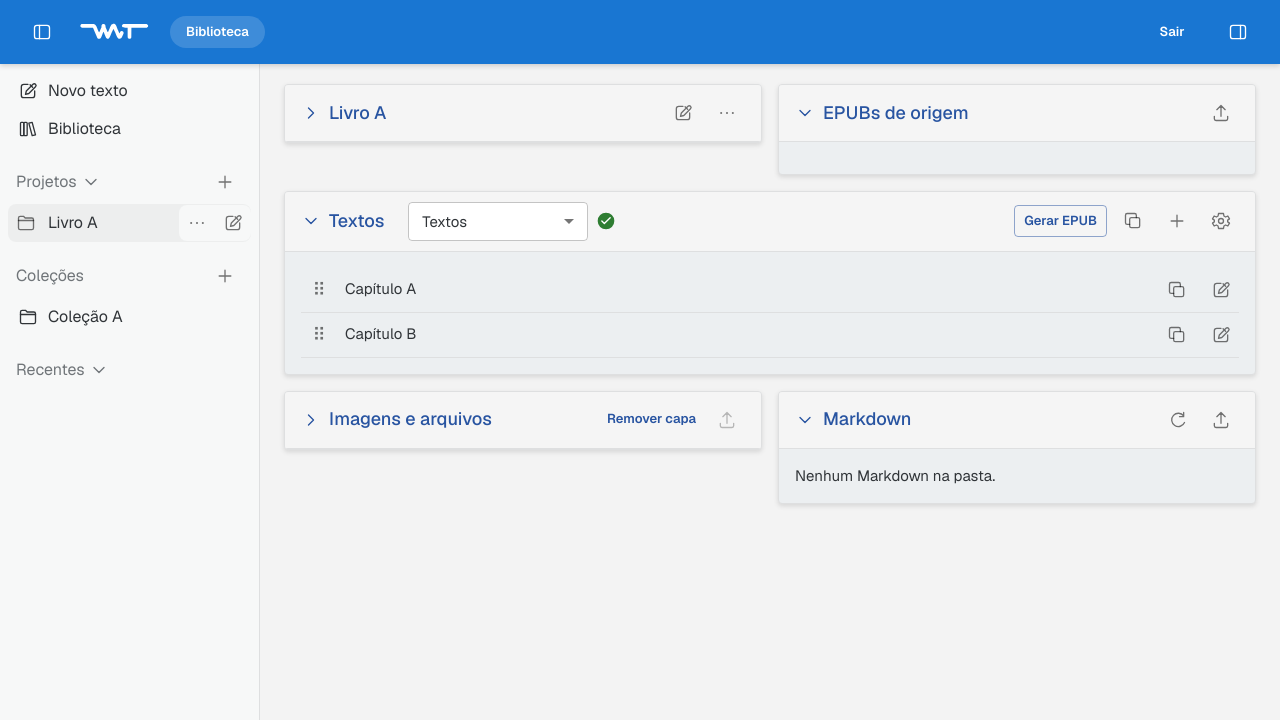
Test: creates and selects an independent group without switching the book default
Click the button named "Configurar grupos" at (1221, 221), box [1203, 203, 1239, 239]
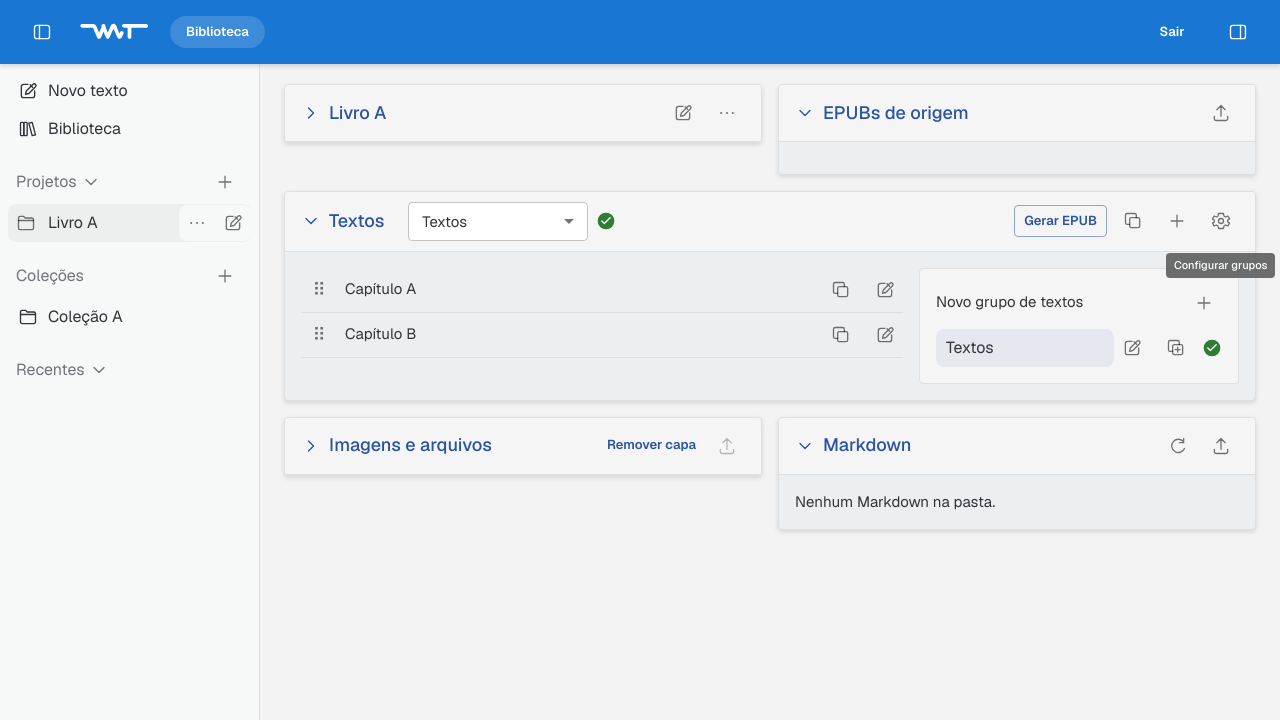
Click the button named "Novo grupo de textos" at (1204, 303), box [1186, 285, 1222, 321]
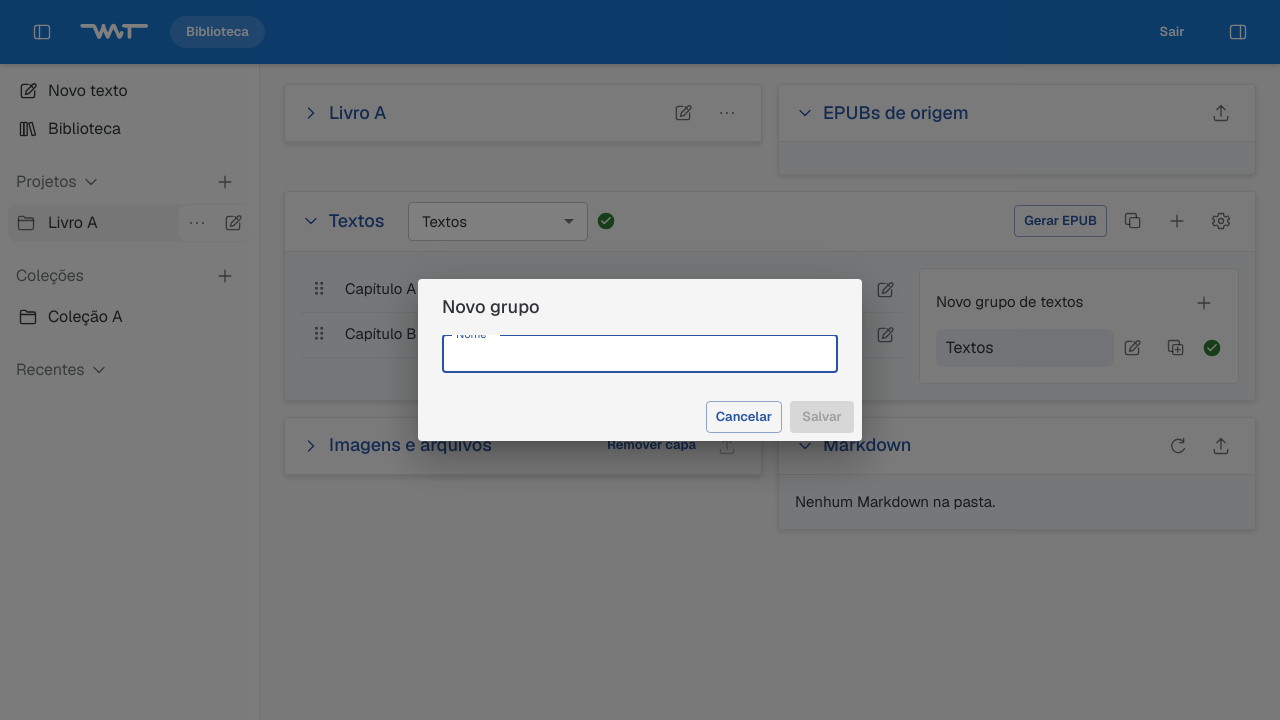
Type "Revisão humana" into the field labelled "Nome *" at (640, 354), box [442, 335, 838, 374]
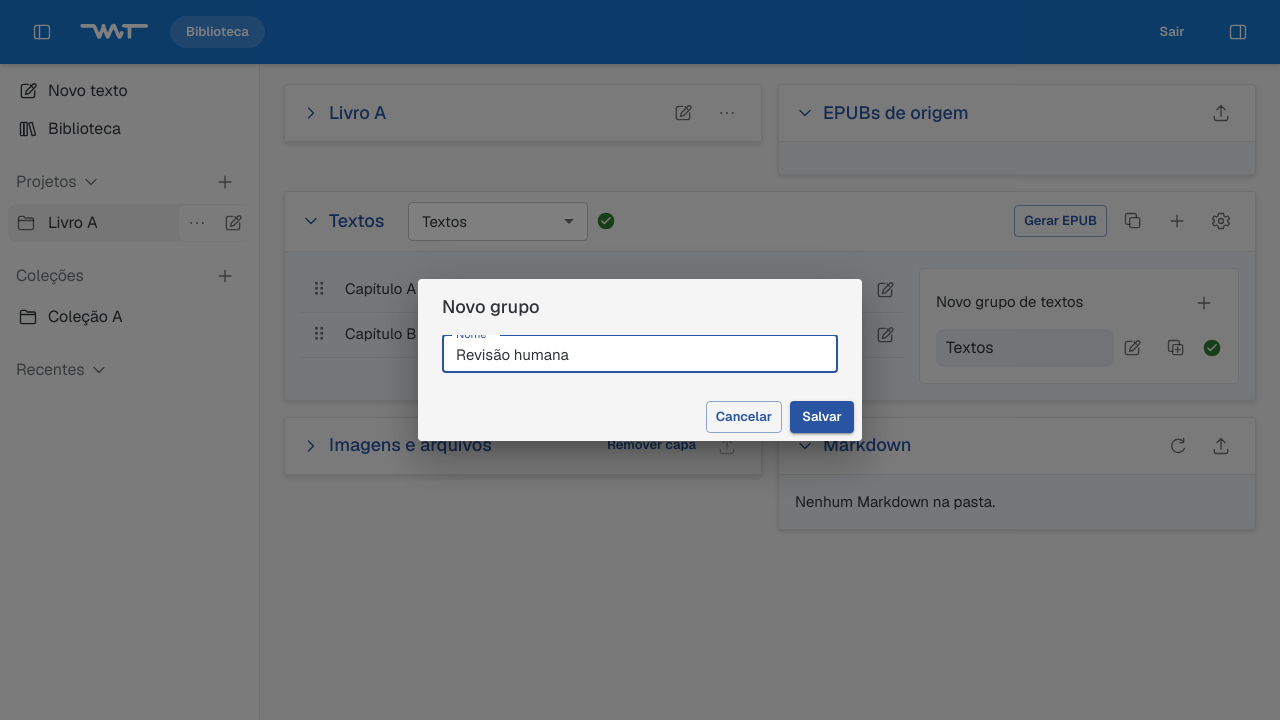
Click the button "Salvar" at (822, 417), box [790, 401, 854, 433]
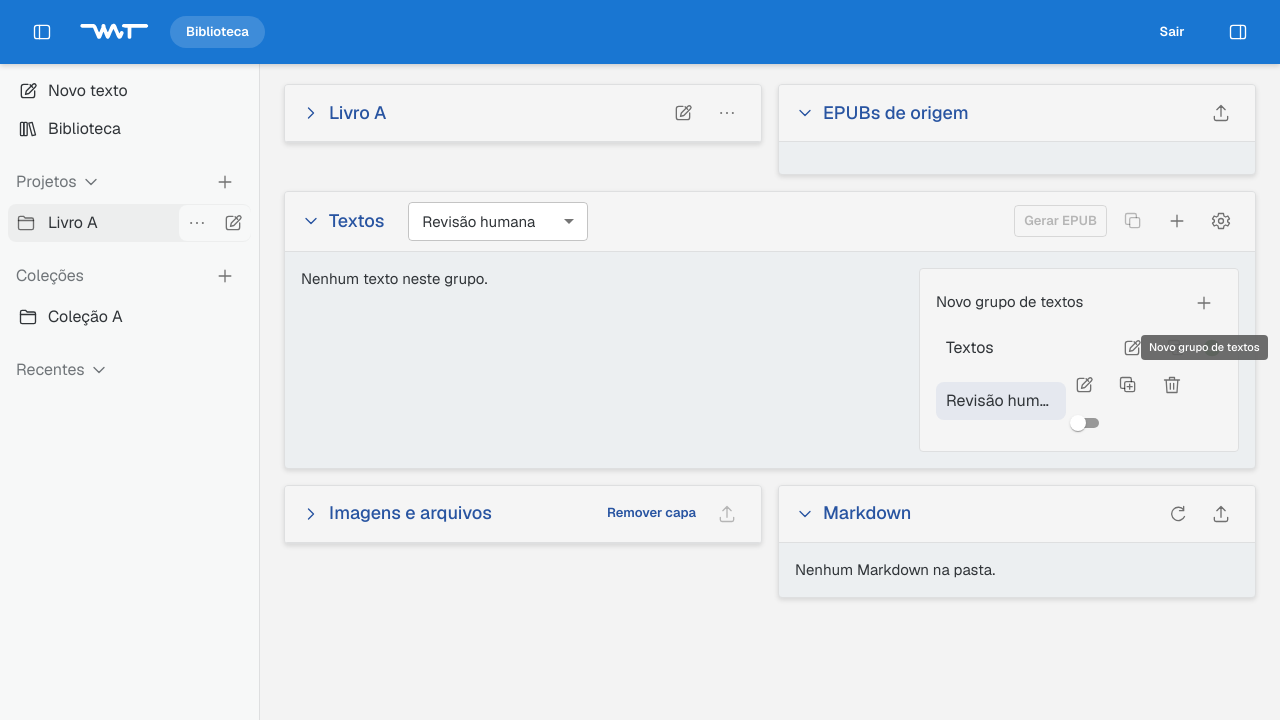
Check: the dialog is gone
Click the dropdown named "Grupo de textos" at (479, 221), box [422, 212, 535, 230]
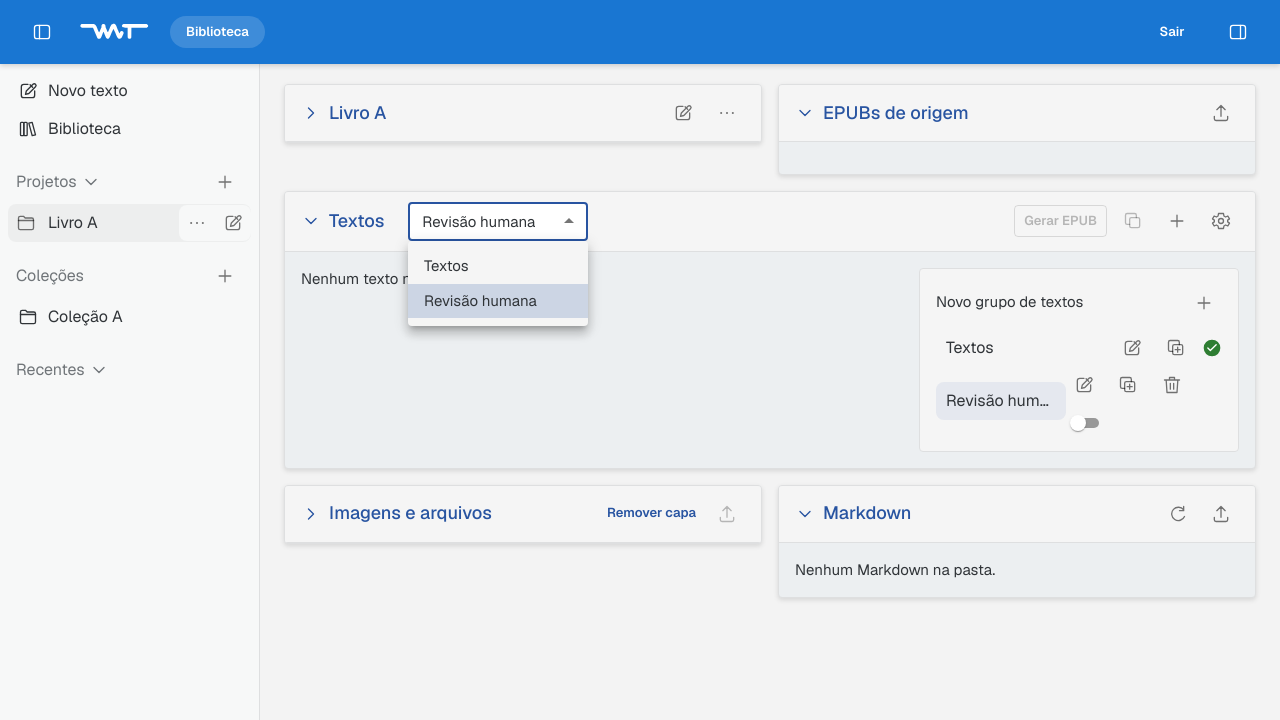
Click the option "Textos" at (446, 266), box [424, 256, 469, 275]
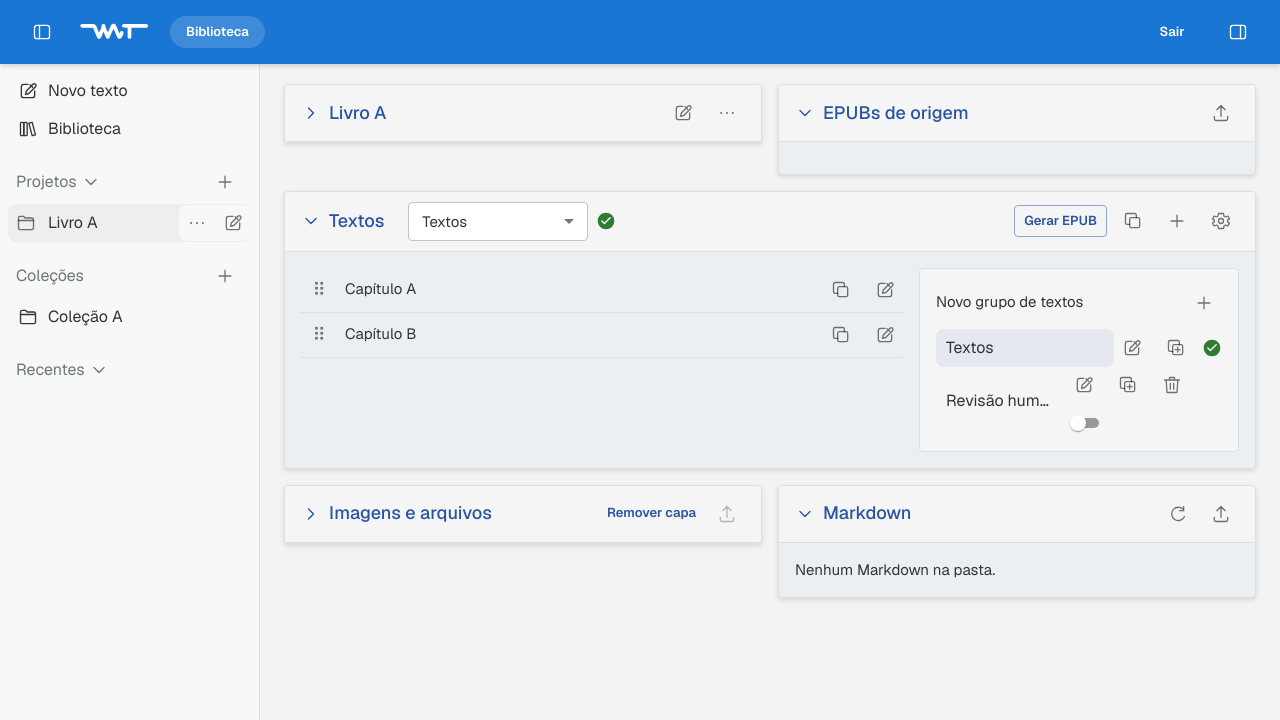
Check: the dropdown named "Grupo de textos" reads "Textos", box [422, 212, 467, 230]
